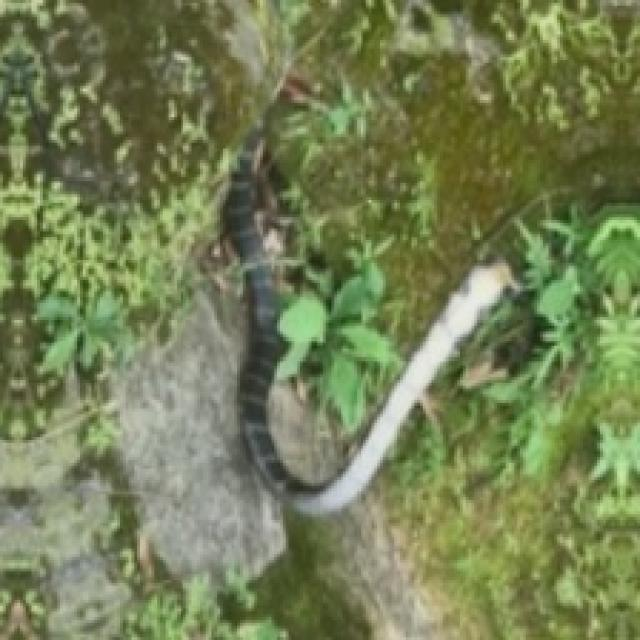king cobra: (226, 140, 517, 511)
